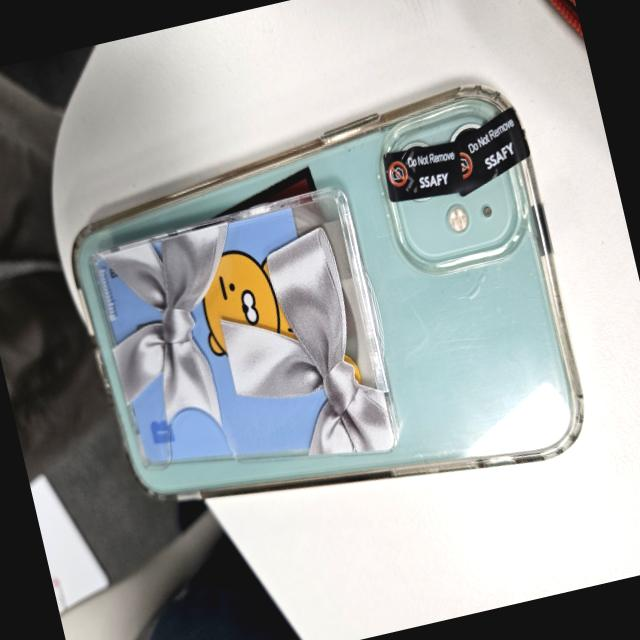phone: (56, 72, 596, 546)
sticker: (444, 102, 538, 196), (374, 131, 466, 211)
